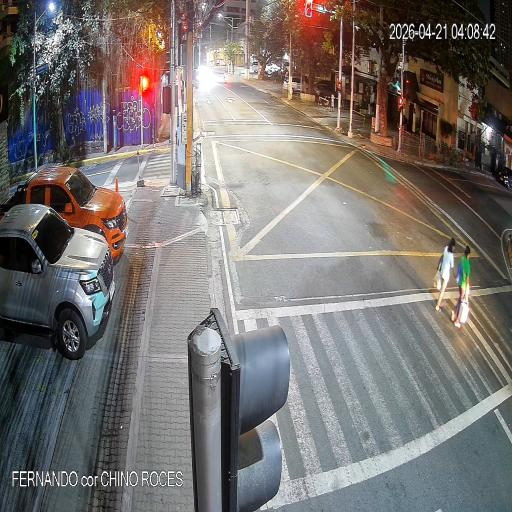Car: (0, 197, 121, 364), (3, 160, 132, 263), (282, 69, 312, 99)
